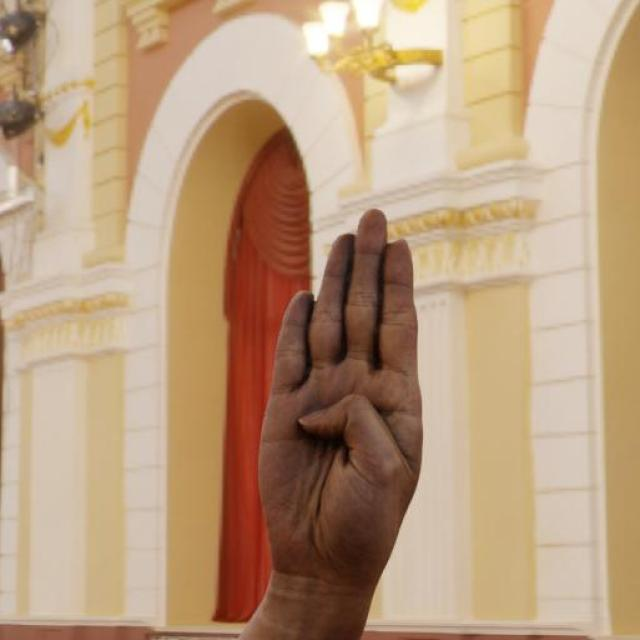B: (246, 200, 435, 600)
